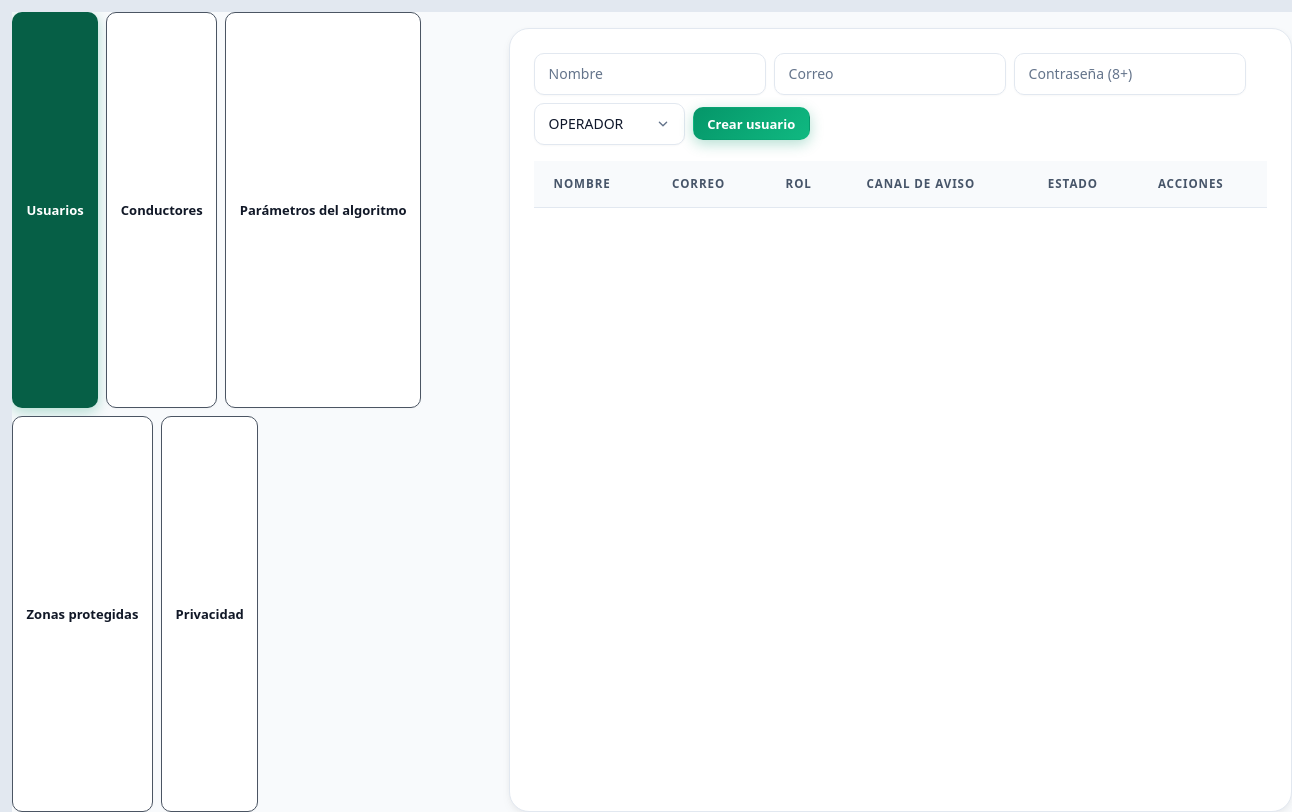
AdminPage › registra un conductor y recarga la lista
Step 1. Click the tab "Conductores" → (162, 210), box top-left (106, 12), bottom-right (217, 408)
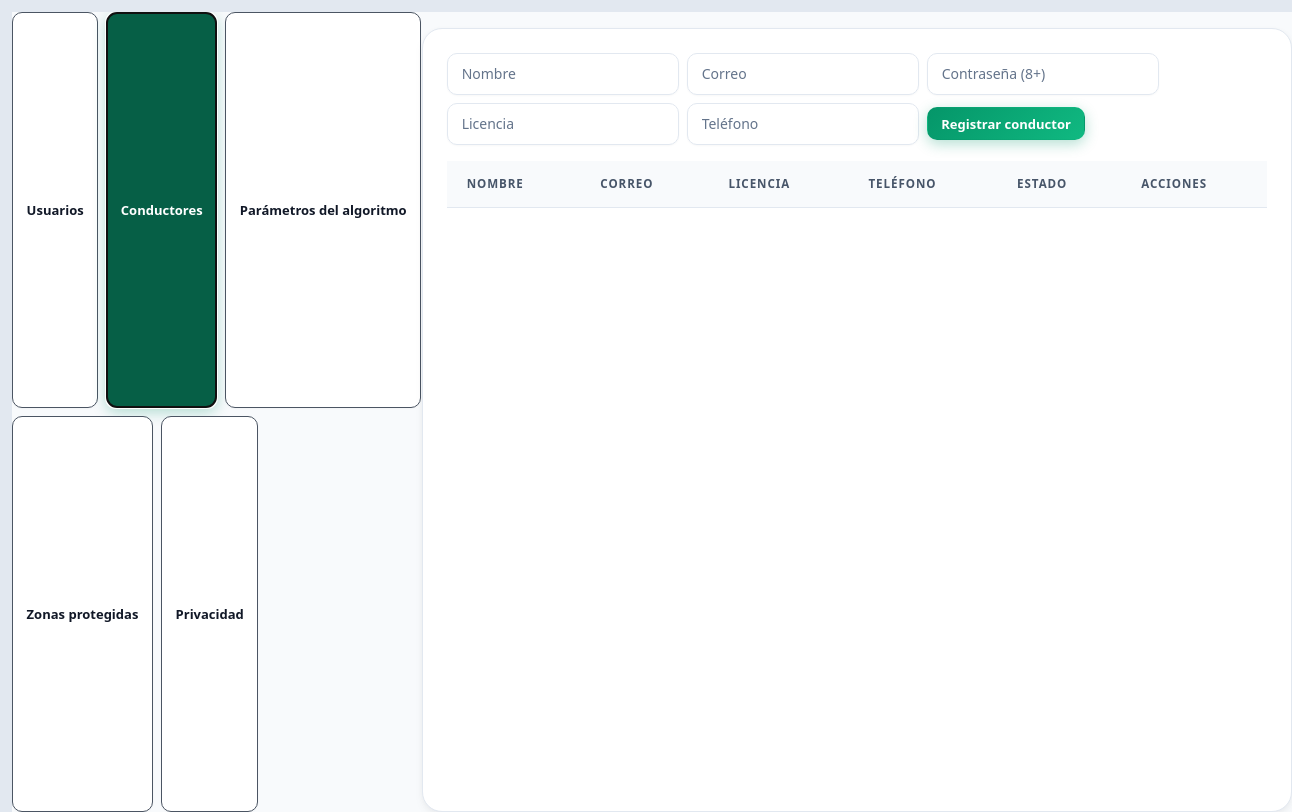
Step 2. Type "Luis" into the field named "Nombre del conductor" → (563, 74), box top-left (447, 53), bottom-right (679, 95)
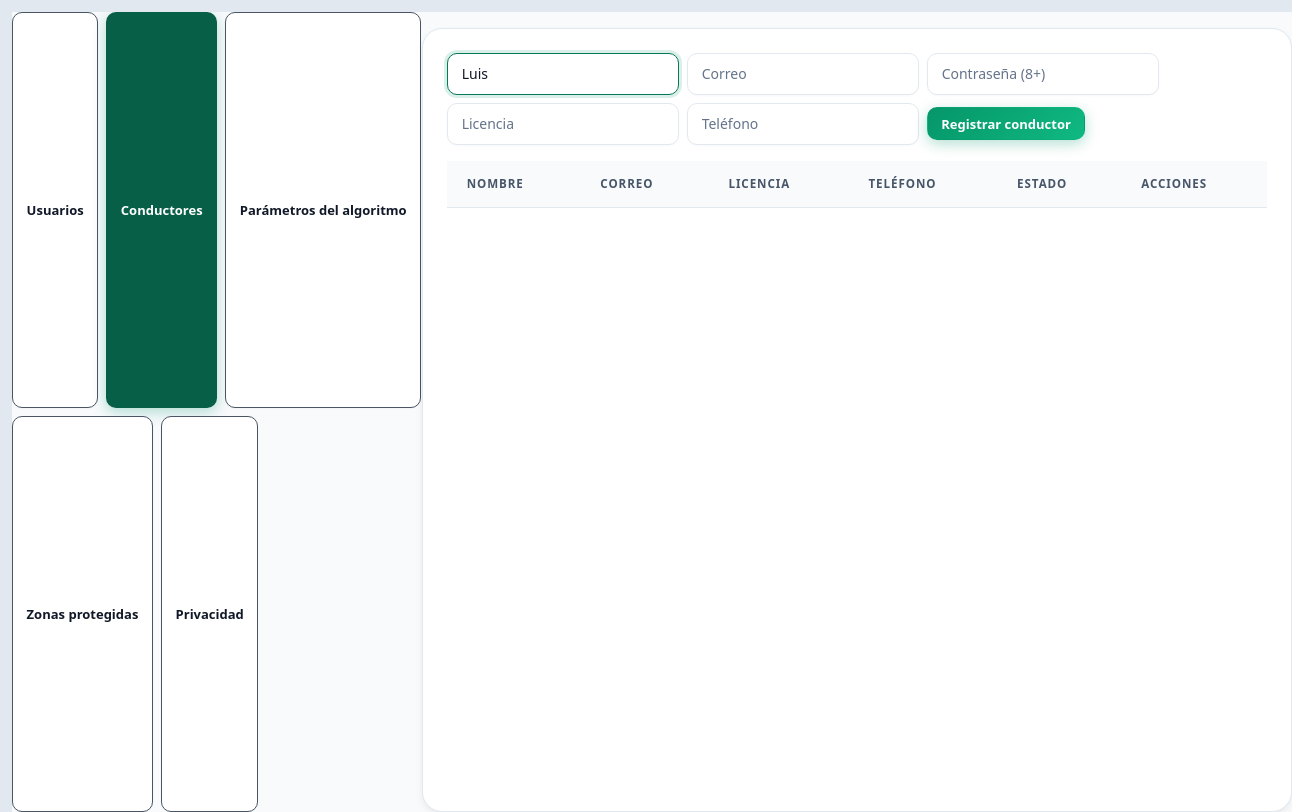
Step 3. Type "luis@eco.pe" into the field named "Correo del conductor" → (803, 74), box top-left (687, 53), bottom-right (919, 95)
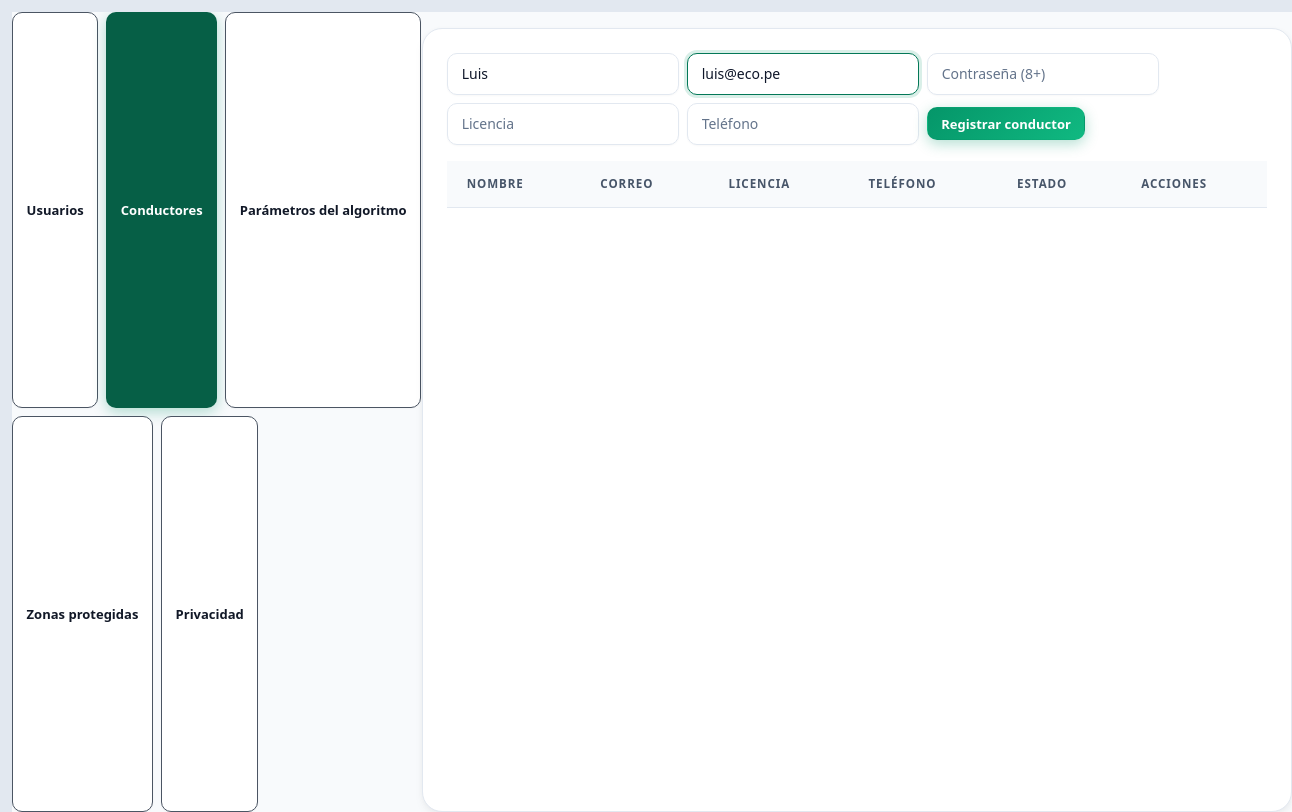
Step 4. Type "ClaveSegura1" into the password field named "Contraseña del conductor" → (1043, 74), box top-left (927, 53), bottom-right (1159, 95)
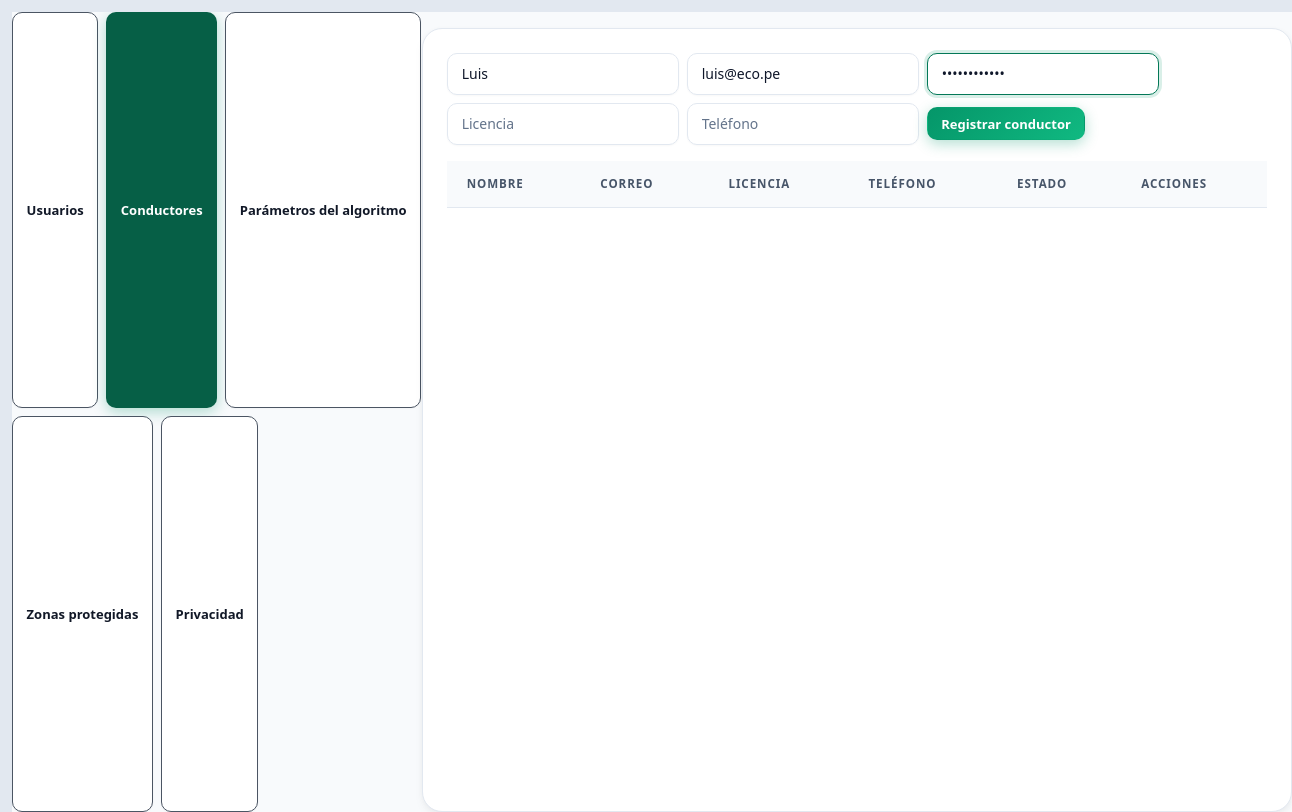
Step 5. Type "Q99999999" into the field labelled "Licencia" → (563, 124), box top-left (447, 103), bottom-right (679, 145)
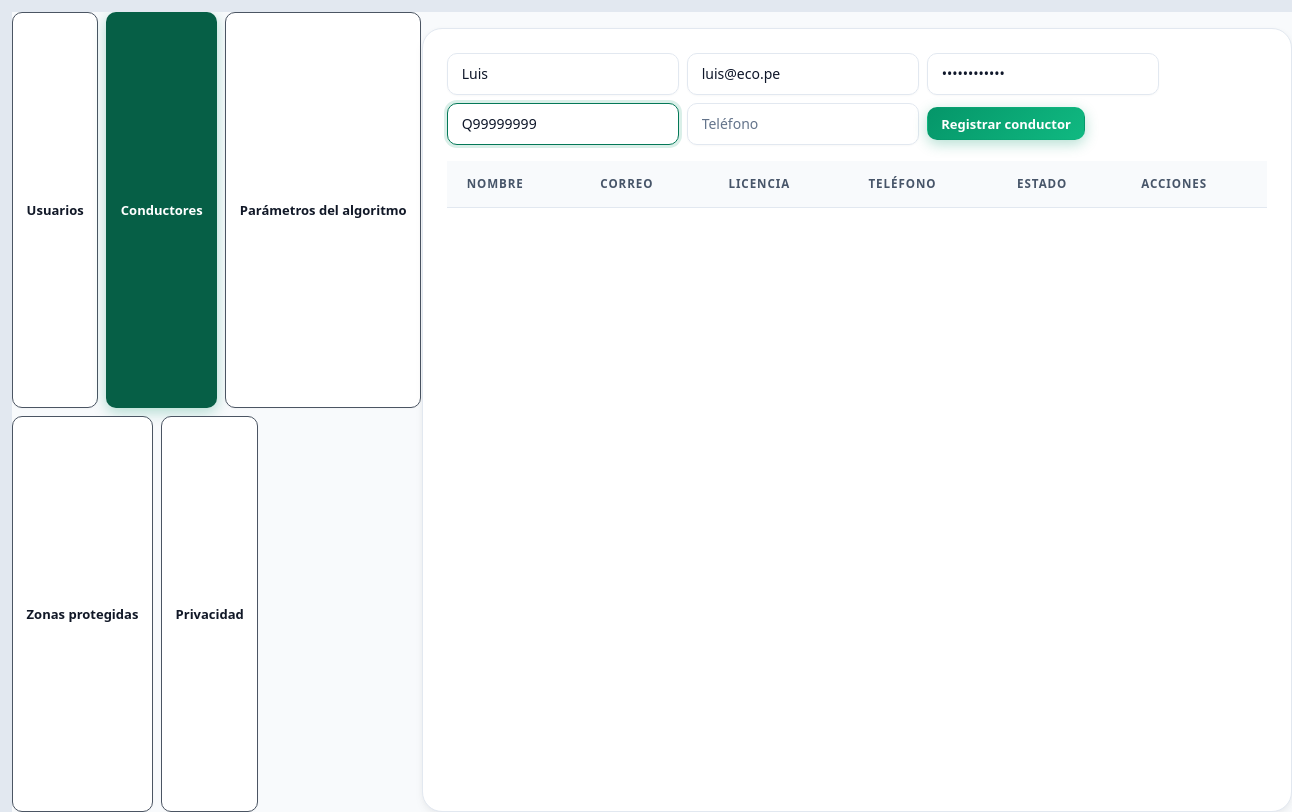
Step 6. Click the button "Registrar conductor" → (1006, 124), box top-left (927, 107), bottom-right (1085, 140)
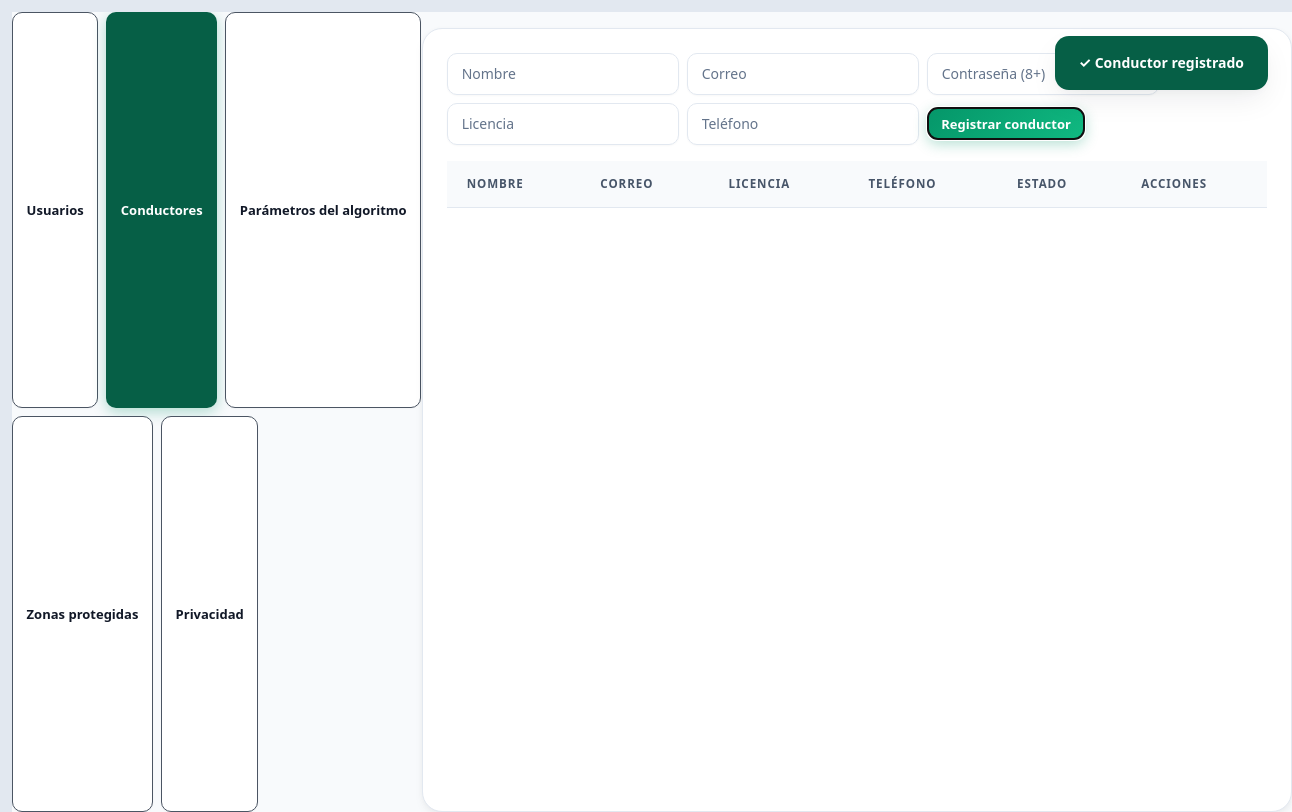
Expected: the text "✓ Conductor registrado" is shown, top-left (1055, 36), bottom-right (1268, 90)
